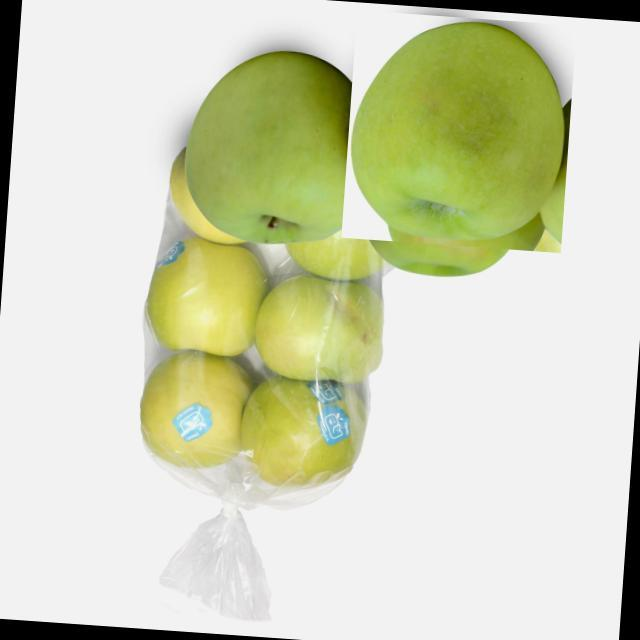Green Apple: (351, 21, 566, 244), (185, 50, 352, 244), (145, 237, 269, 358), (286, 236, 383, 282), (540, 162, 567, 244), (506, 215, 545, 252), (534, 230, 562, 253)
